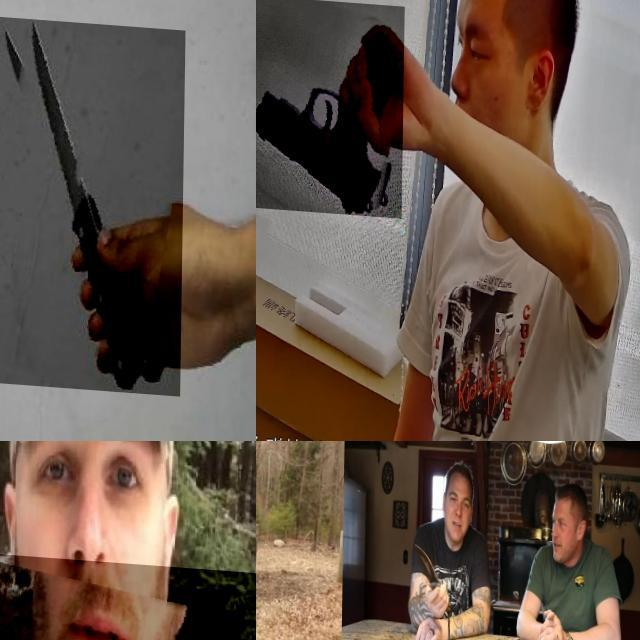-: (0, 12, 186, 389), (0, 538, 256, 640), (409, 528, 448, 608), (256, 615, 290, 640)
gun-knife-thesis - v11 Yolov5 augmented: (256, 0, 405, 214)
